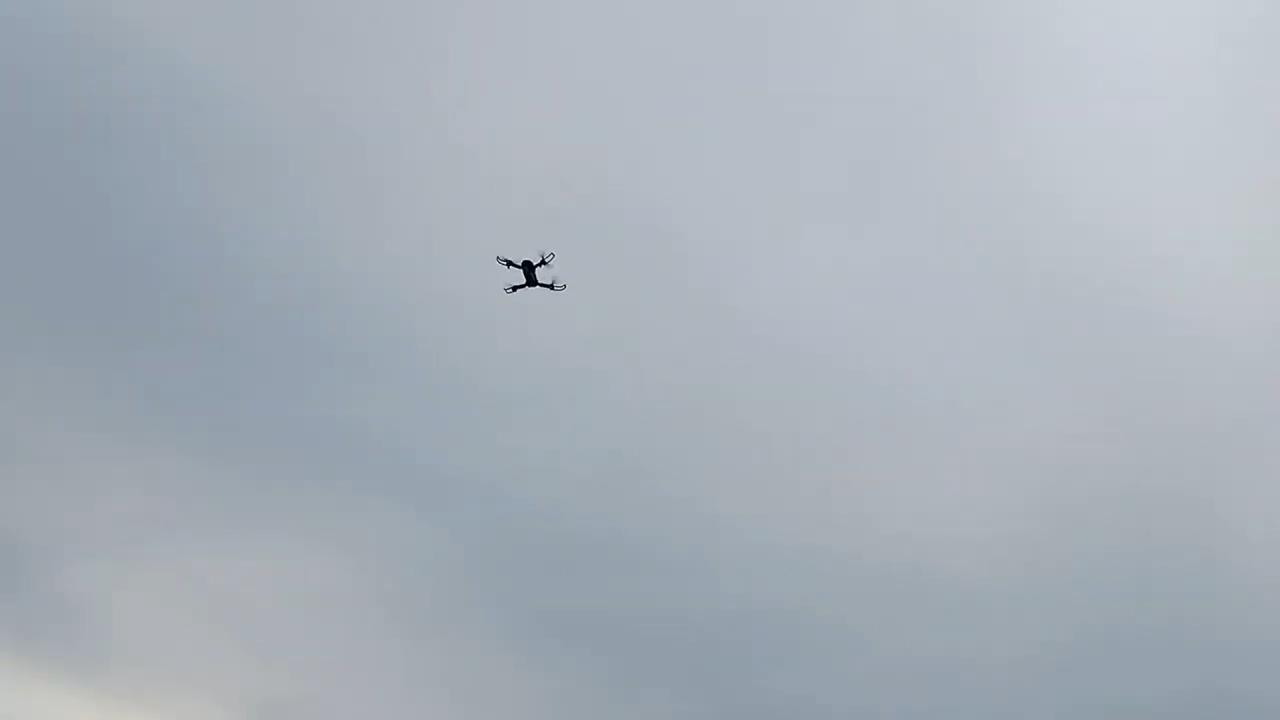Drone: (487, 246, 578, 301)
